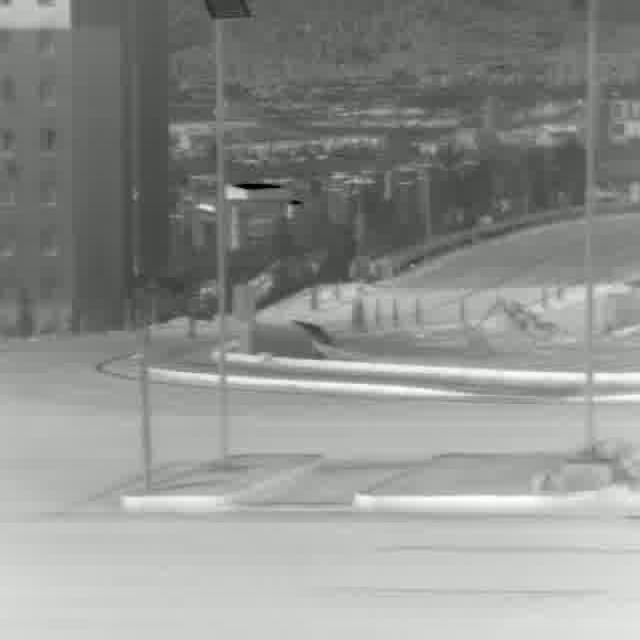Motorcycle: (195, 280, 217, 320)
